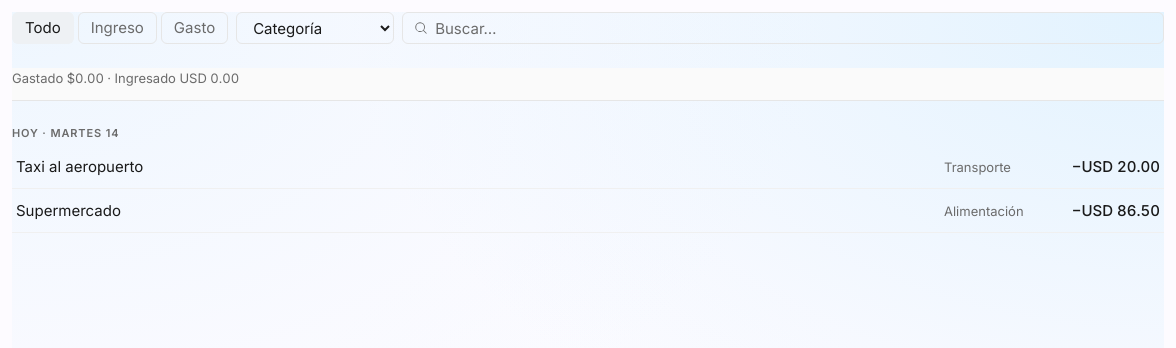
Test case: Historial — búsqueda por descripción, tolerante y en vivo › filtra por texto parcial, sin distinguir mayúsculas/minúsculas
The width and height of the screenshot is (1176, 348).
Type "TAXI" into the field with placeholder "Buscar…" at (783, 28), box [402,12,1164,44]
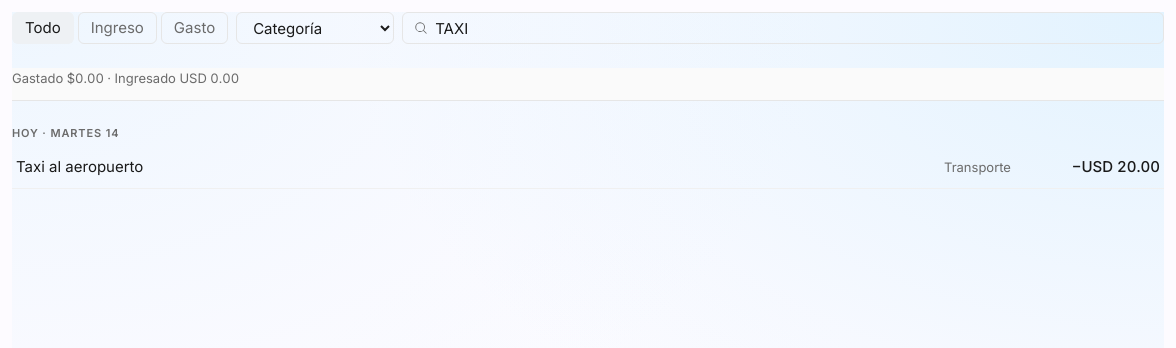
Expected: the text "Taxi al aeropuerto" is shown, [16,156,143,176]
Result: the button "Supermercado" is gone
